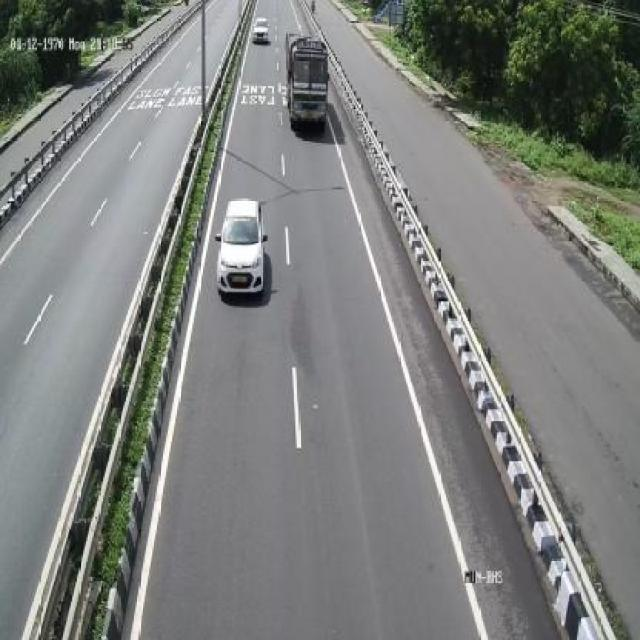car: (218, 190, 271, 302), (254, 5, 274, 48)
